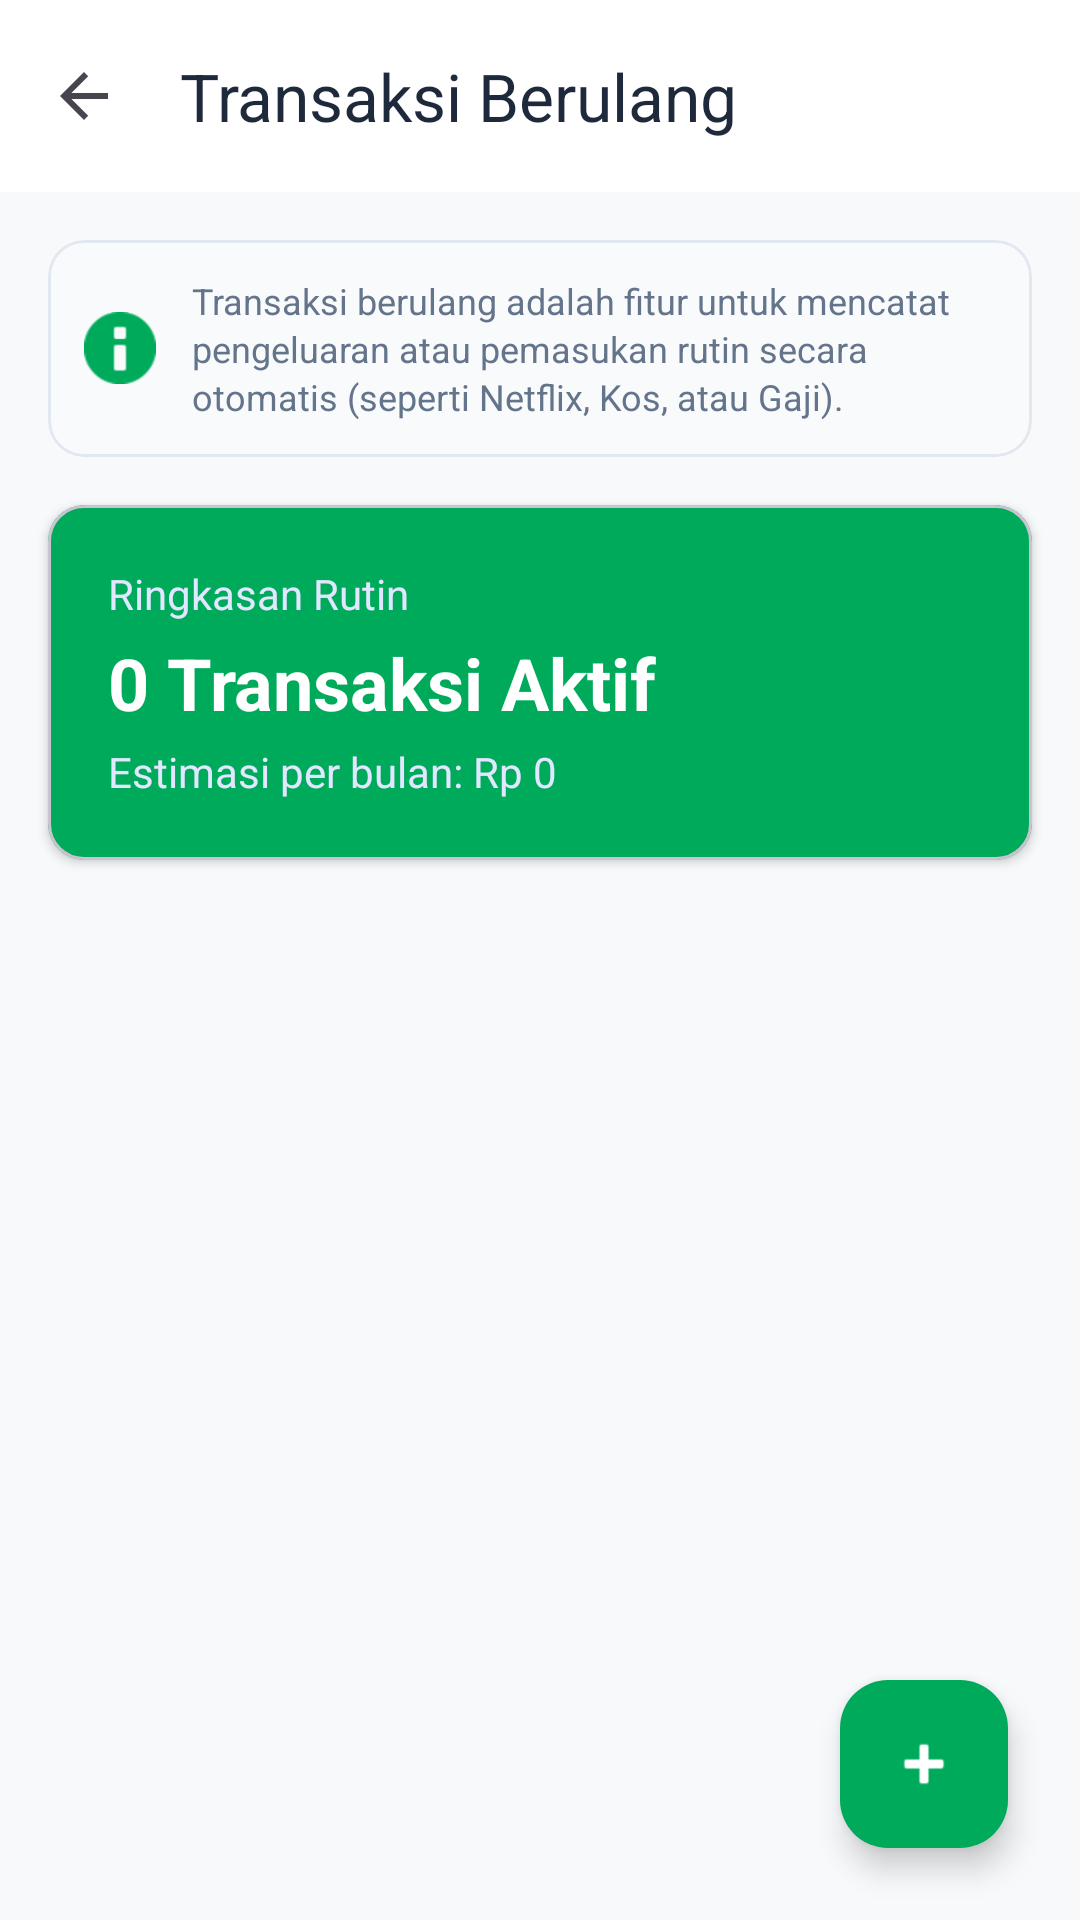

Where to tap for icons on this 1080 × 1920 app screen, as (x=x, y=y):
info: (x=120, y=348)
Tambah Rutin: (x=924, y=1764)
